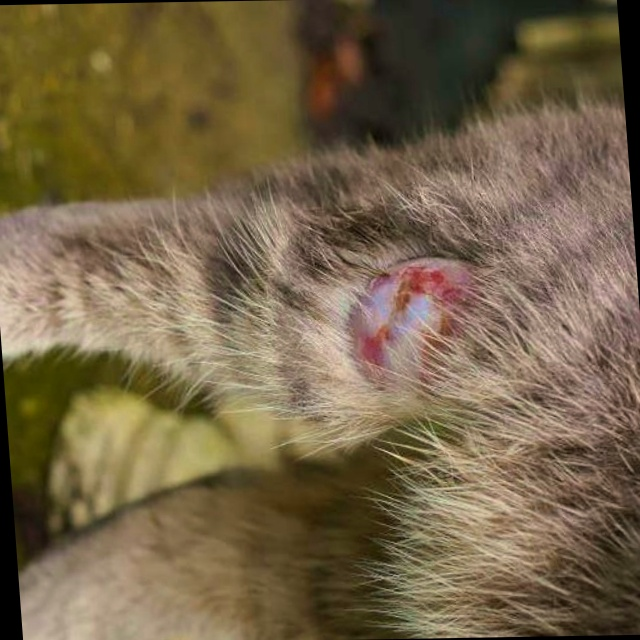lump_and_bump: (345, 253, 501, 388)
